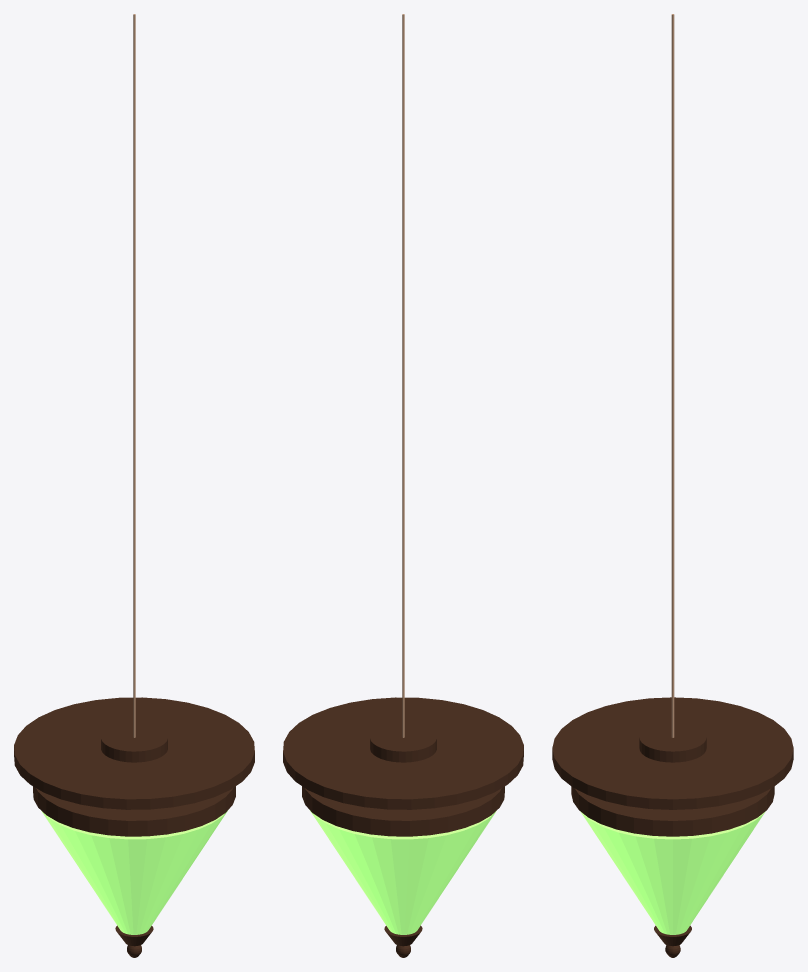
File: Luce 3 Verde .fbx
3 renders of one model, left to right at view 1: azimuth 30°, elevation 25°; view 2: azimuth 150°, elevation 25°; view 3: azimuth 270°, elevation 25°, orthographic.
Visible parts, largest first — view 1: Cylinder.371; view 2: Cylinder.371; view 3: Cylinder.371.
Part boxes in pixels (x1,y1,x2,y2): Cylinder.371: (14, 14, 254, 957); Cylinder.371: (283, 14, 523, 957); Cylinder.371: (552, 14, 793, 957).
Size of the model in its own units: 51.04 by 220 by 51.04.
